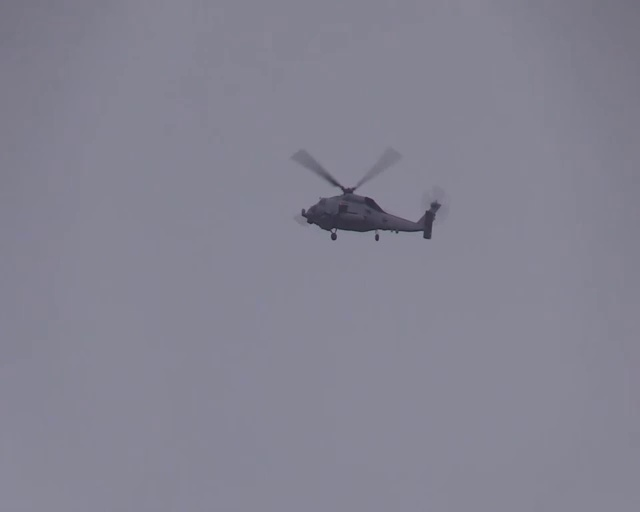HELICOPTER: (289, 145, 442, 242)
